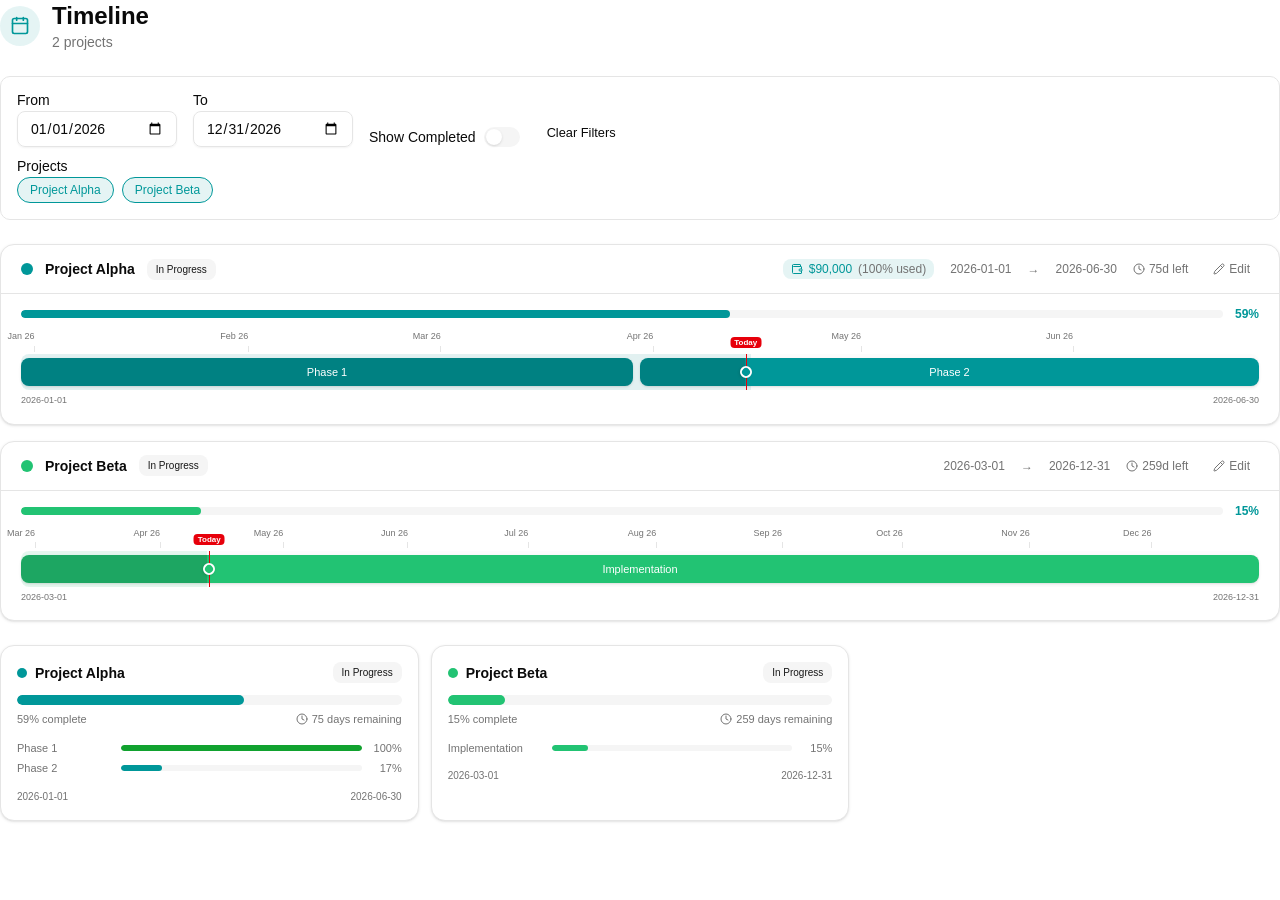
Test: TimelinePage › should open phase detail panel when a phase is clicked
Click the button with test id "timeline-phase-phase-1". click: click(327, 372)
box: [21,358,633,386]
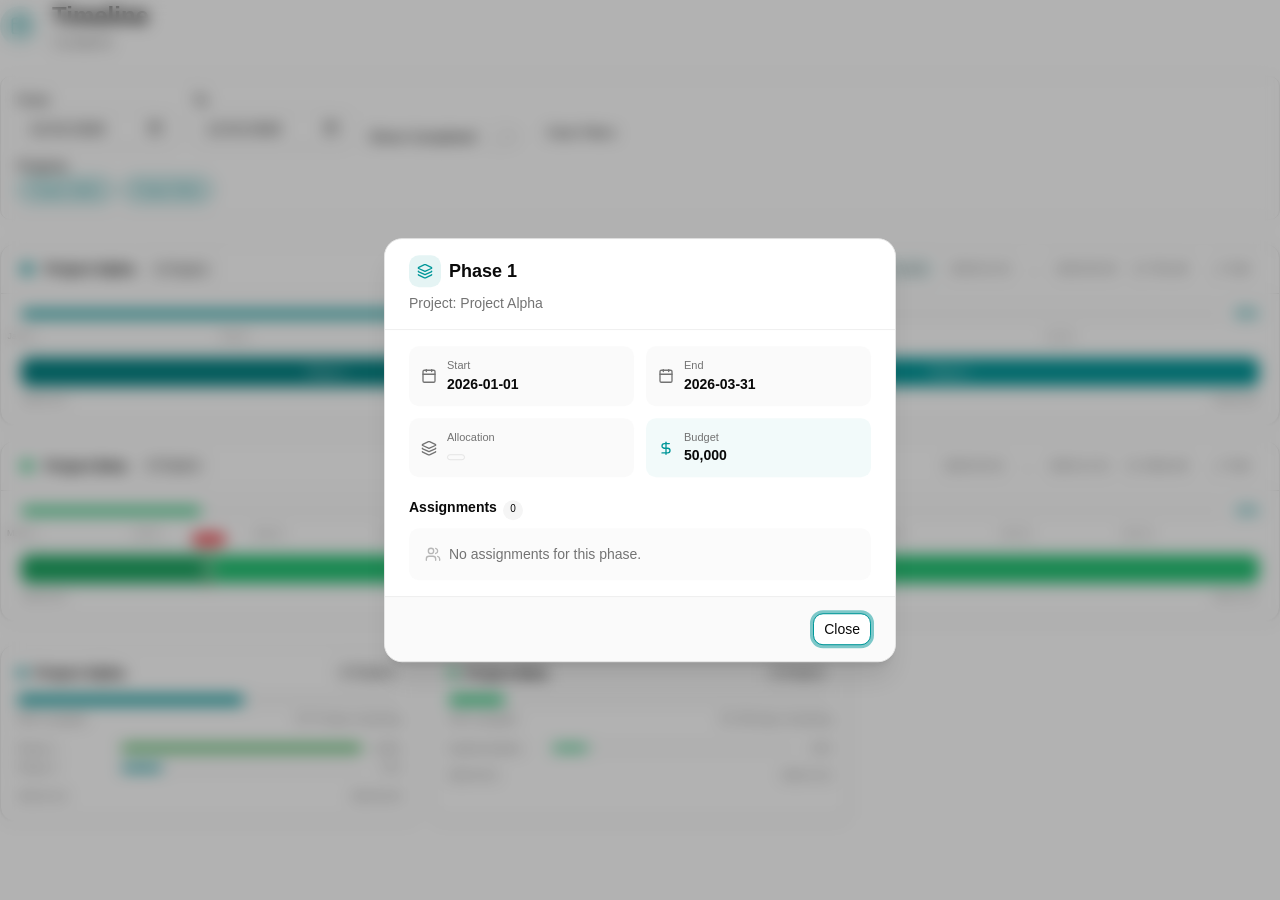
Check: the dialog is shown, box [384,238,896,662]
